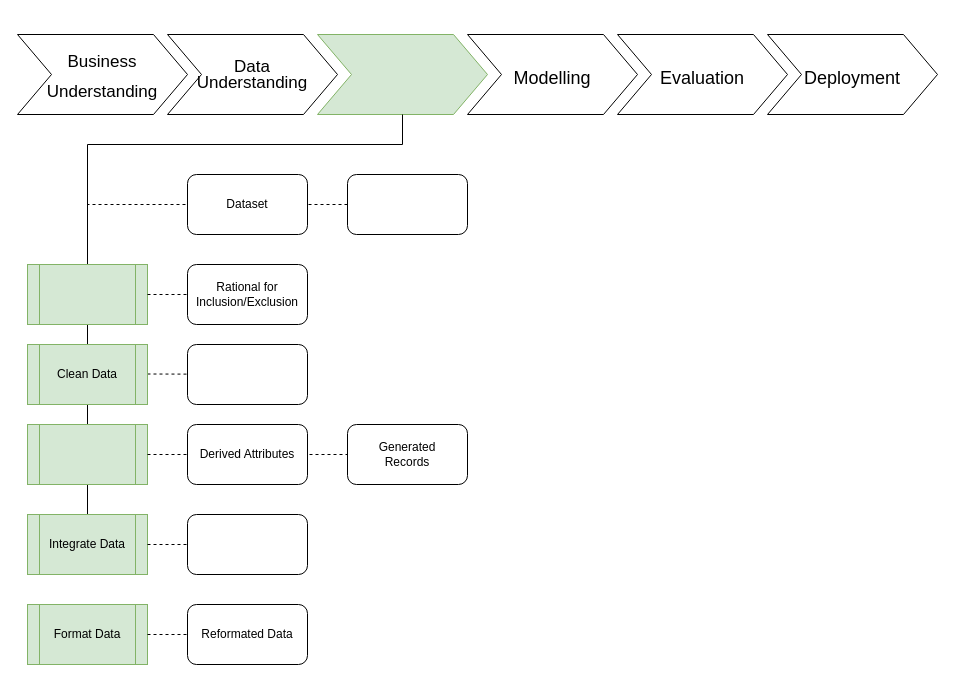
Some shapes in this 955 by 682 pixel diagram are drawn without their labels. Each missing label, with the centre of its shape:
"Construct Data" belongs at (x=87, y=454).
"Data Cleaning Report" belongs at (x=247, y=374).
"Data Preperation" belongs at (x=402, y=74).
"Data Quality Report" belongs at (x=247, y=544).
"Dataset description" belongs at (x=407, y=204).
"Select Data" belongs at (x=87, y=294).
